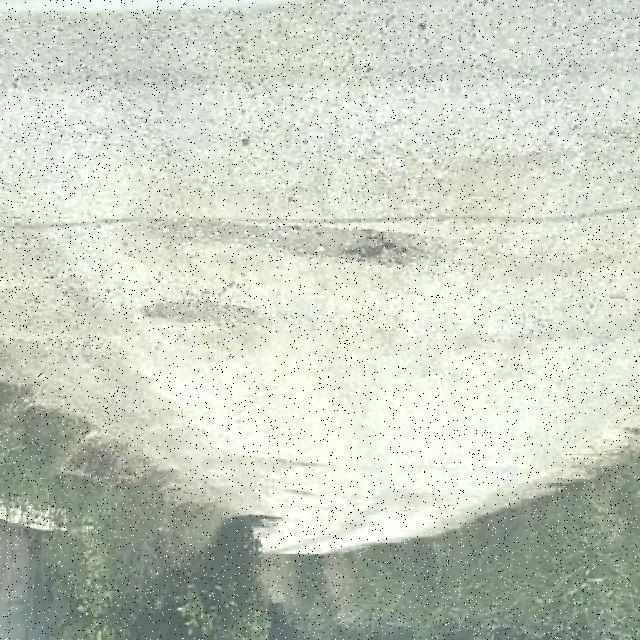Pothole: (172, 218, 434, 265), (135, 295, 260, 328)
